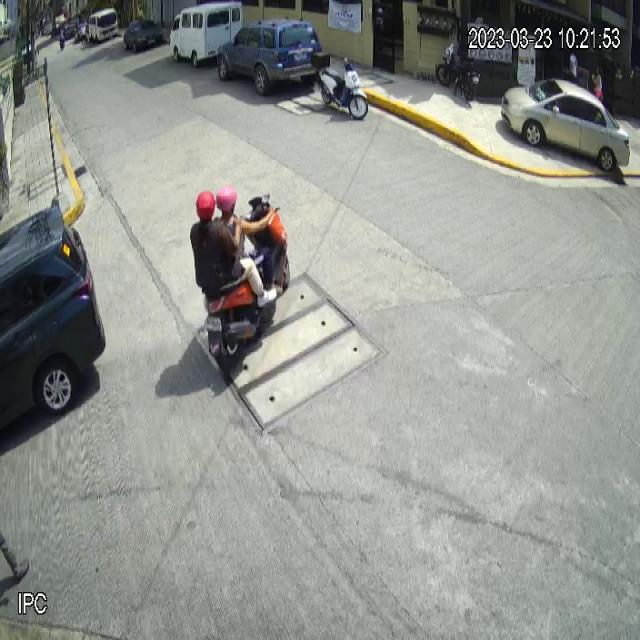Car: (501, 76, 631, 171), (219, 15, 325, 94)
Motorcycle: (201, 192, 291, 374), (312, 48, 369, 120)
Van: (170, 1, 245, 67)
